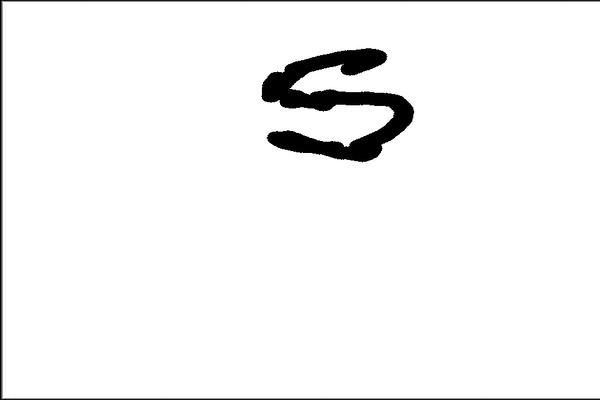S: (254, 43, 419, 165)
